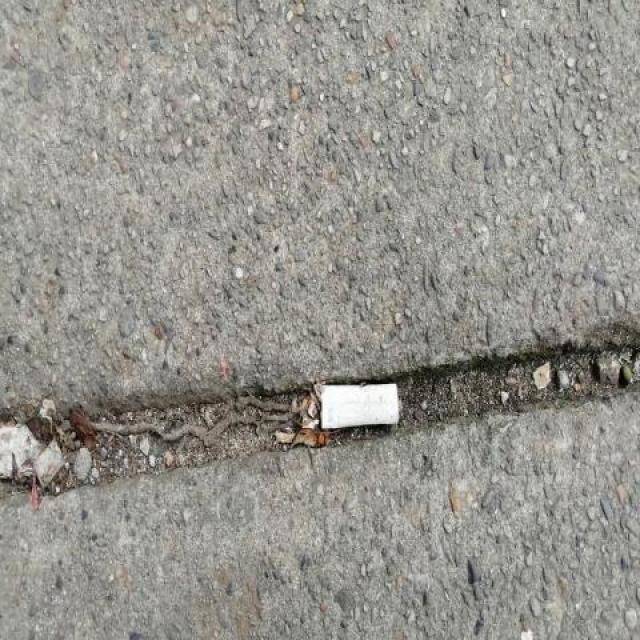non-organic waste: (312, 379, 408, 436)
